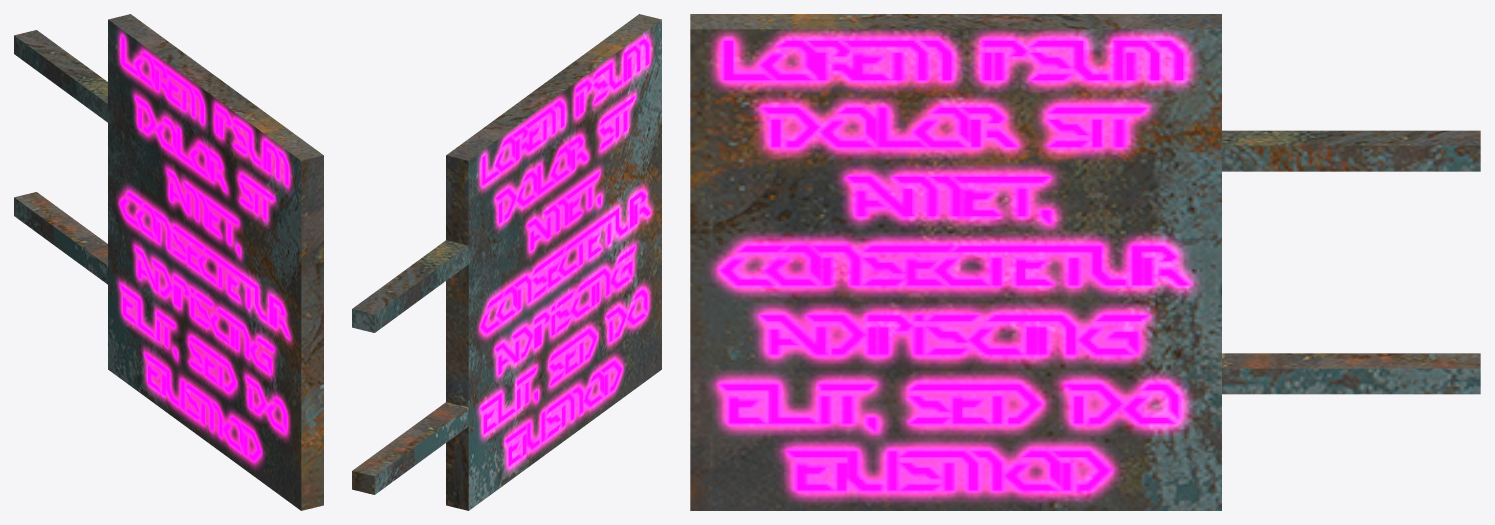
File: neonSign_3.fbx
The picture shows the model from 3 angles, left to right: view 1: azimuth 30°, elevation 25°; view 2: azimuth 150°, elevation 25°; view 3: azimuth 270°, elevation 25°; orthographic projection. The views are drawn at different scales.
Parts seen in each view (by area): view 1: Cube.002; view 2: Cube.002; view 3: Cube.002.
Part boxes in pixels (<box>): Cube.002: <box>14,14,323,510</box>; Cube.002: <box>352,14,661,510</box>; Cube.002: <box>690,14,1480,510</box>.
Bounding box in the file's own units: 13.52 × 200 × 297.
